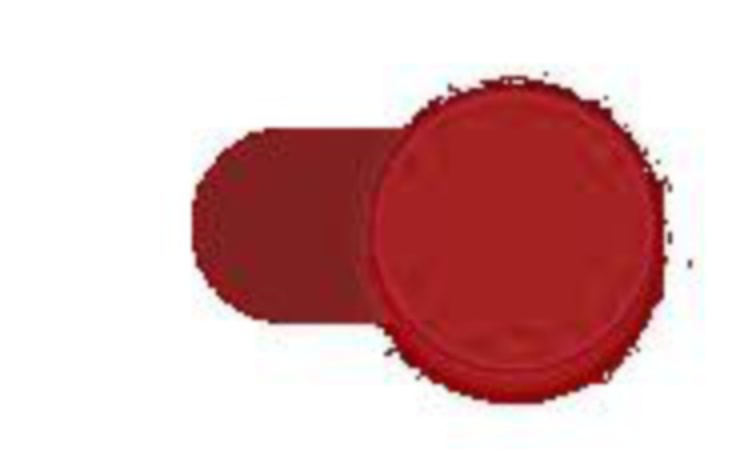Switch: (1, 1, 743, 459)
